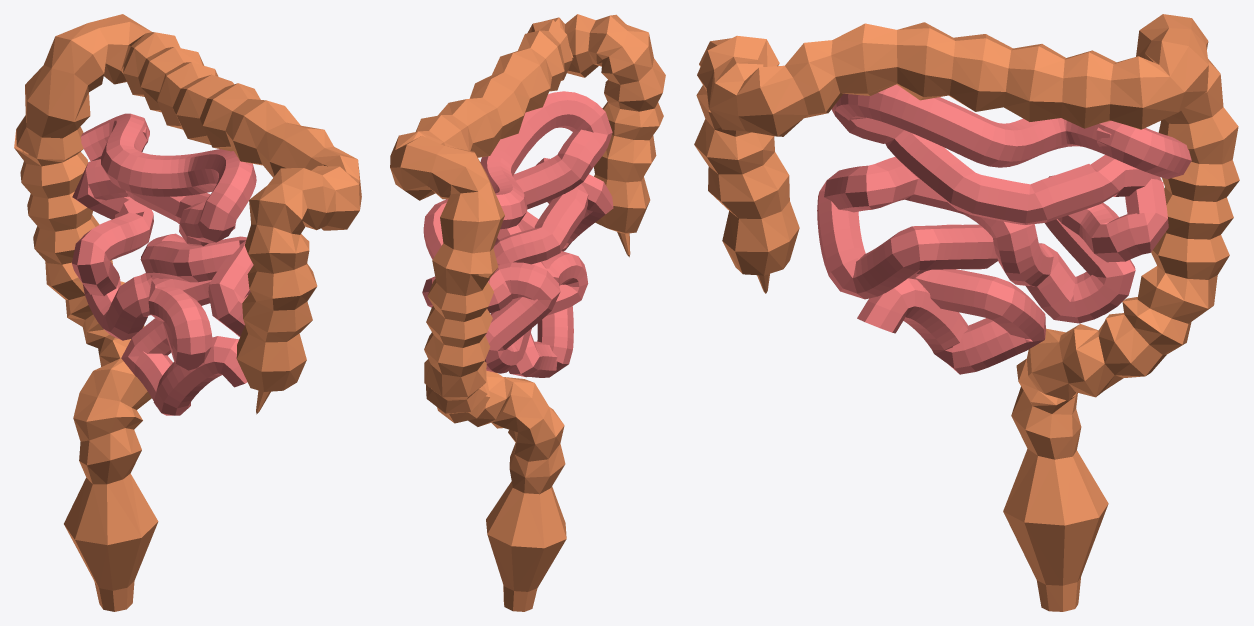
The model's file is Intestines.fbx.
The picture shows the model from 3 angles, left to right: view 1: azimuth 30°, elevation 25°; view 2: azimuth 150°, elevation 25°; view 3: azimuth 270°, elevation 25°; orthographic projection. The views are drawn at different scales.
Parts seen in each view (by area): view 1: Intestines; view 2: Intestines; view 3: Intestines.
Part boxes in pixels (left/top/right/bottom): Intestines: left=14, top=14, right=361, bottom=611; Intestines: left=390, top=14, right=665, bottom=611; Intestines: left=694, top=14, right=1239, bottom=611.
Size of the model in its own units: 94.68 by 308 by 247.
